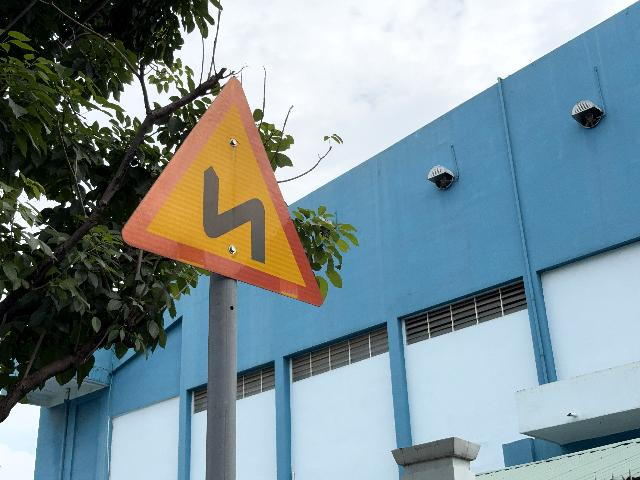nhieu-cho-ngoat-nguy-hiem-lien-tiep: (121, 76, 324, 306)
